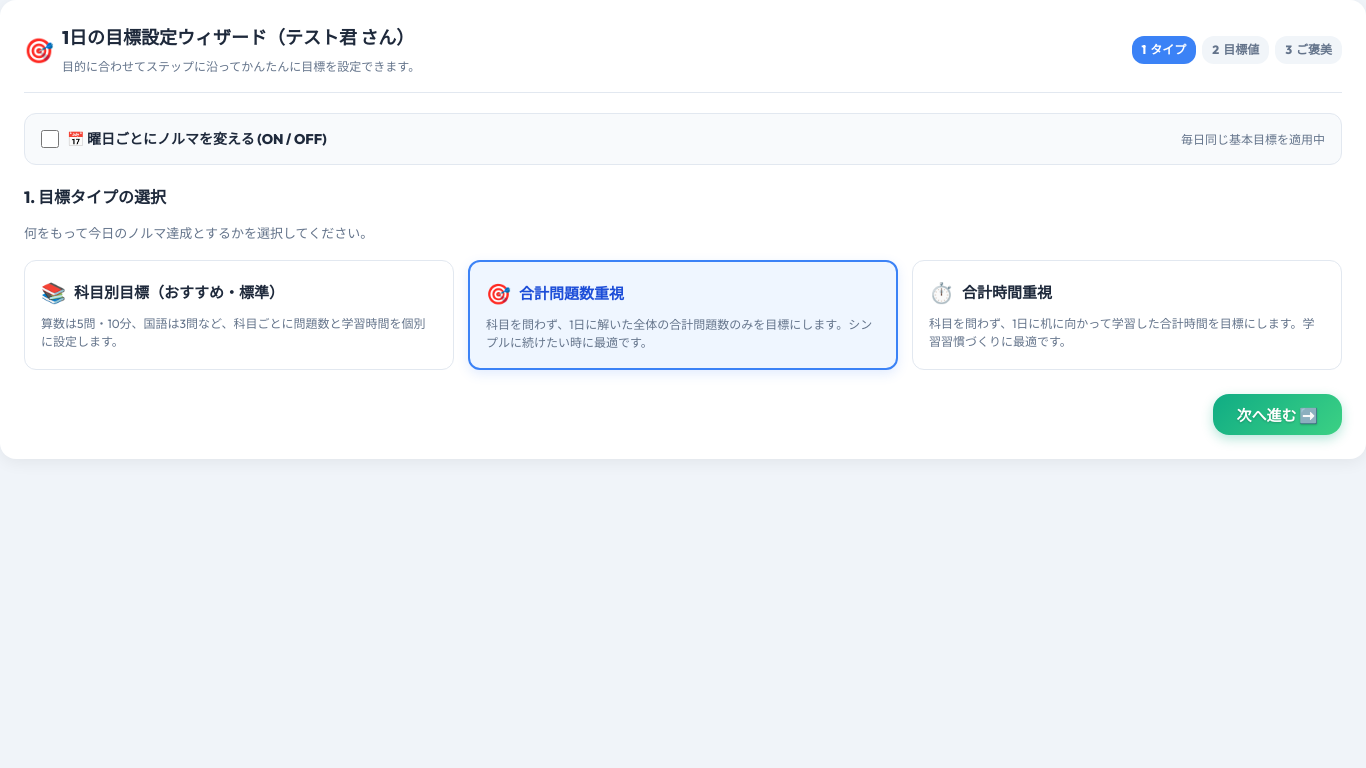
GoalSettingWizard Weekly Schedule Tests › renders weekly schedule toggle and toggles weekday tabs
トグルをONにする
What coordinates should you click on to do the following:
click the checkbox labelled "📅 曜日ごとにノルマを変える (ON / OFF)"
I would click on:
 (50, 139)
Its box is [41,130,59,148].
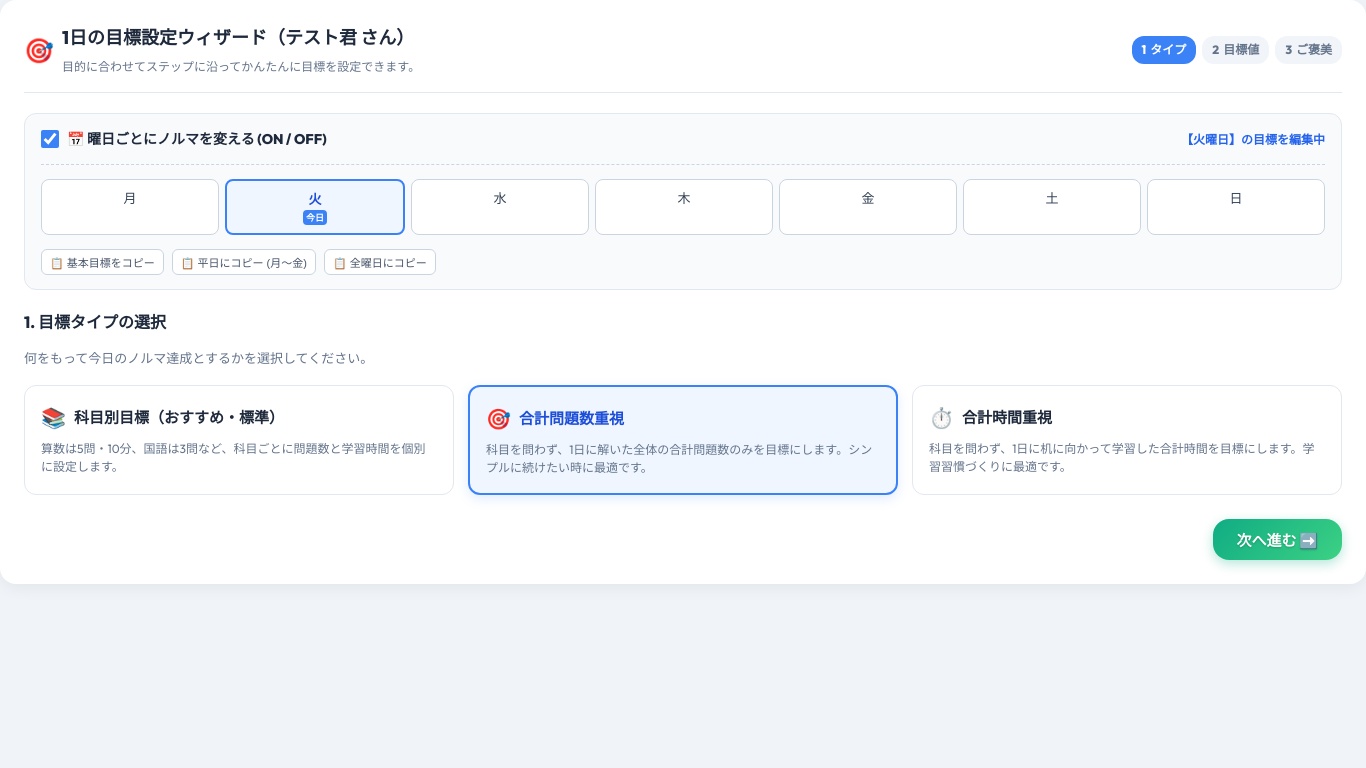
Result: the checkbox labelled "📅 曜日ごとにノルマを変える (ON / OFF)" is checked at [41,130,59,148]
Result: the text "月" is shown at [124,188,136,207]
Result: the text "金" is shown at [862,188,874,207]
